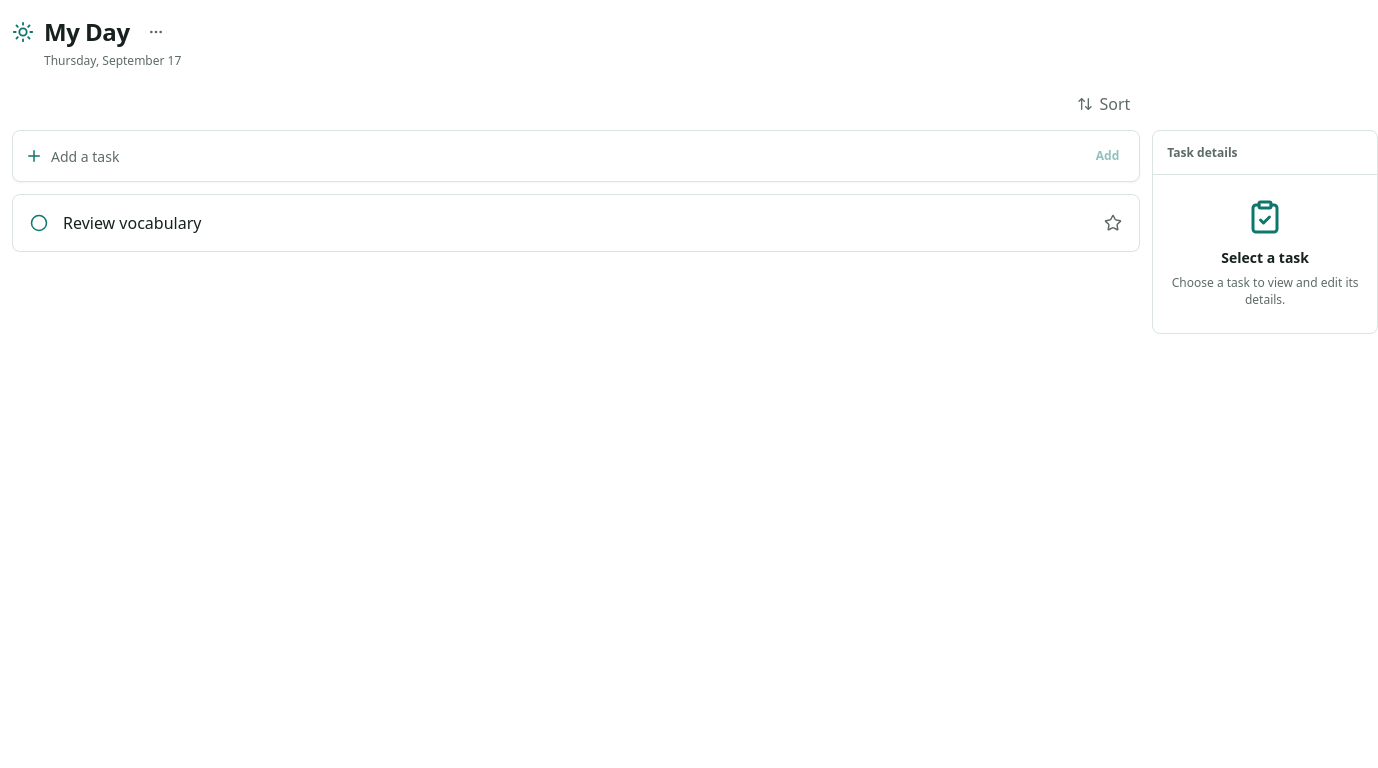
Test: TodoPage My Day workspace › shares completion and importance between the row and details panel
This screenshot has width=1378, height=768.
Click the button "Review vocabulary": (132, 223) [63,201,1089,245]
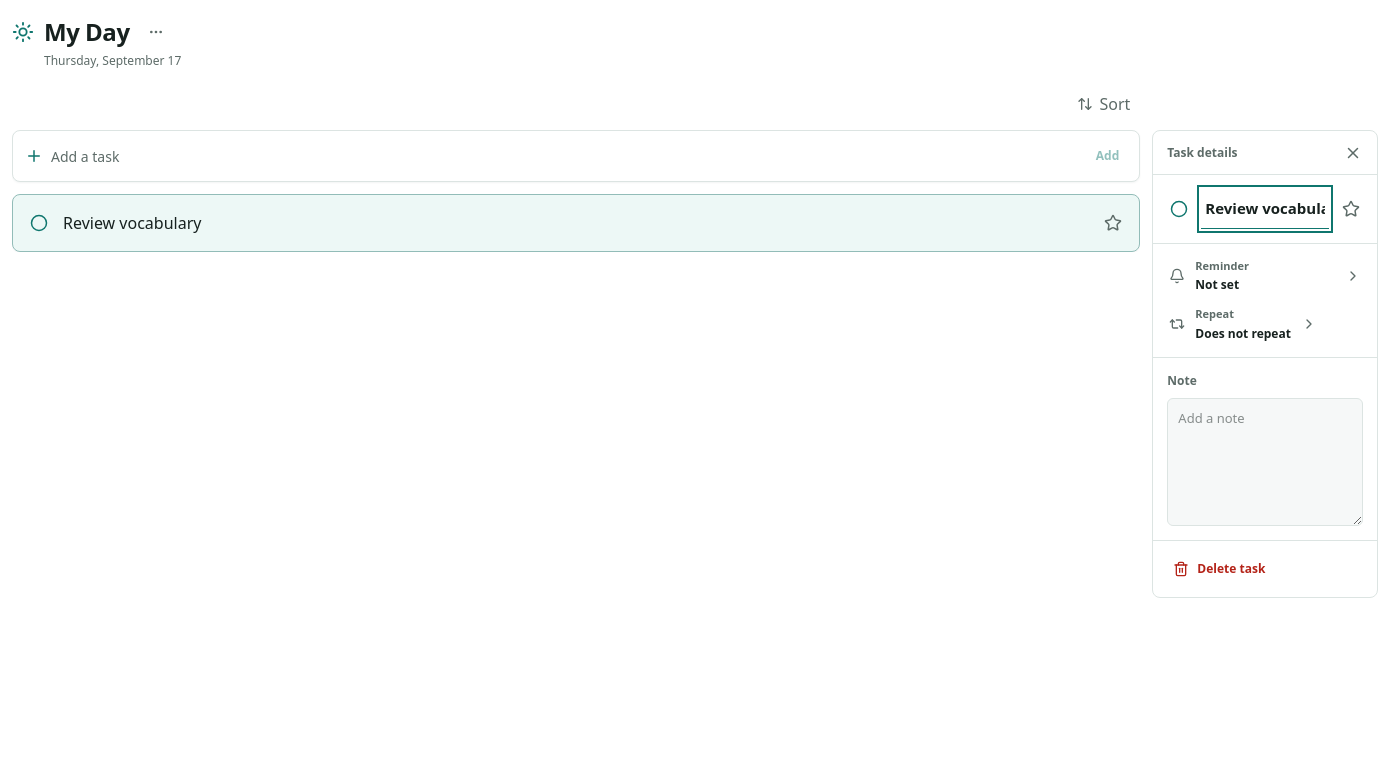
Click the button named "Mark as important": (1351, 209) [1335,193,1367,225]
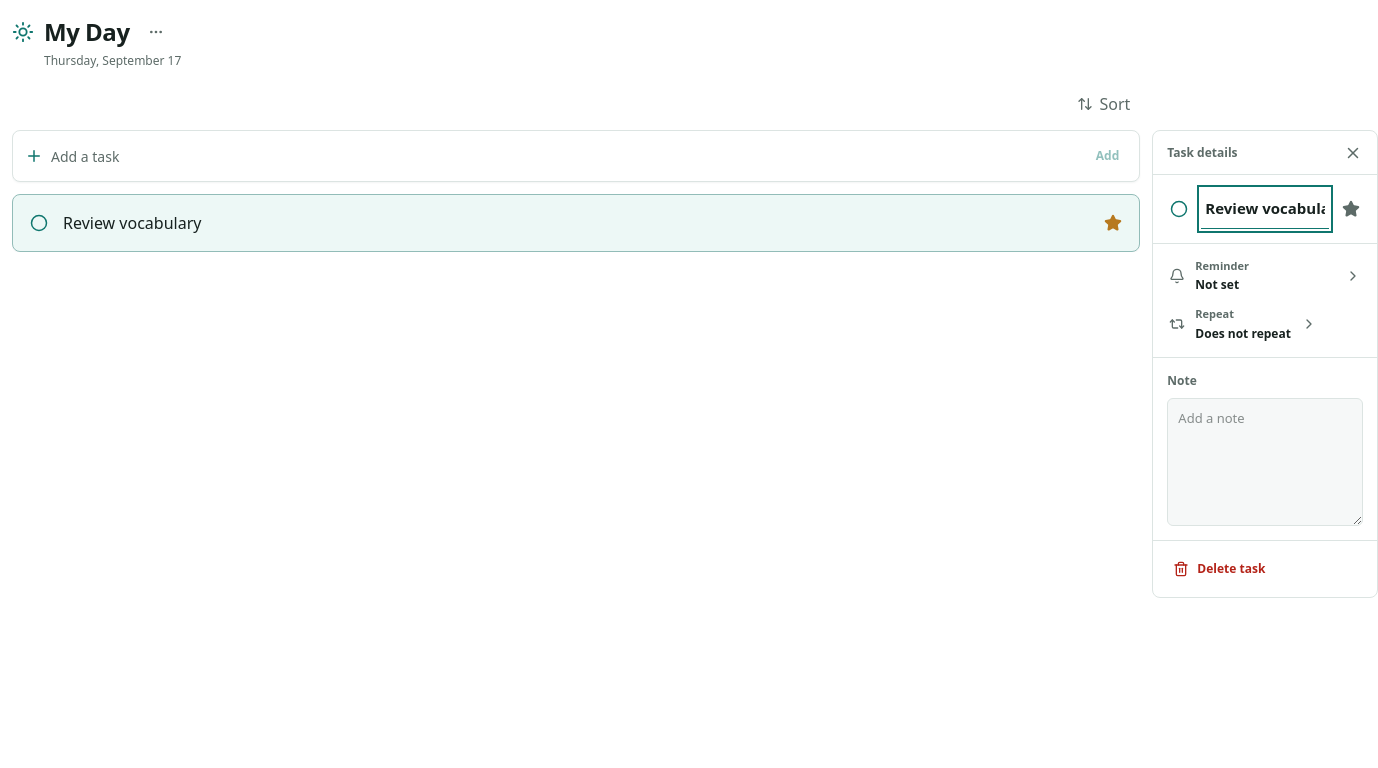
Expected: the button named "Remove importance from Review vocabulary" is pressed, [1097,207,1129,239]
Click the button named "Mark Review vocabulary as completed" below "Task details": (1179, 209) [1163,193,1195,225]
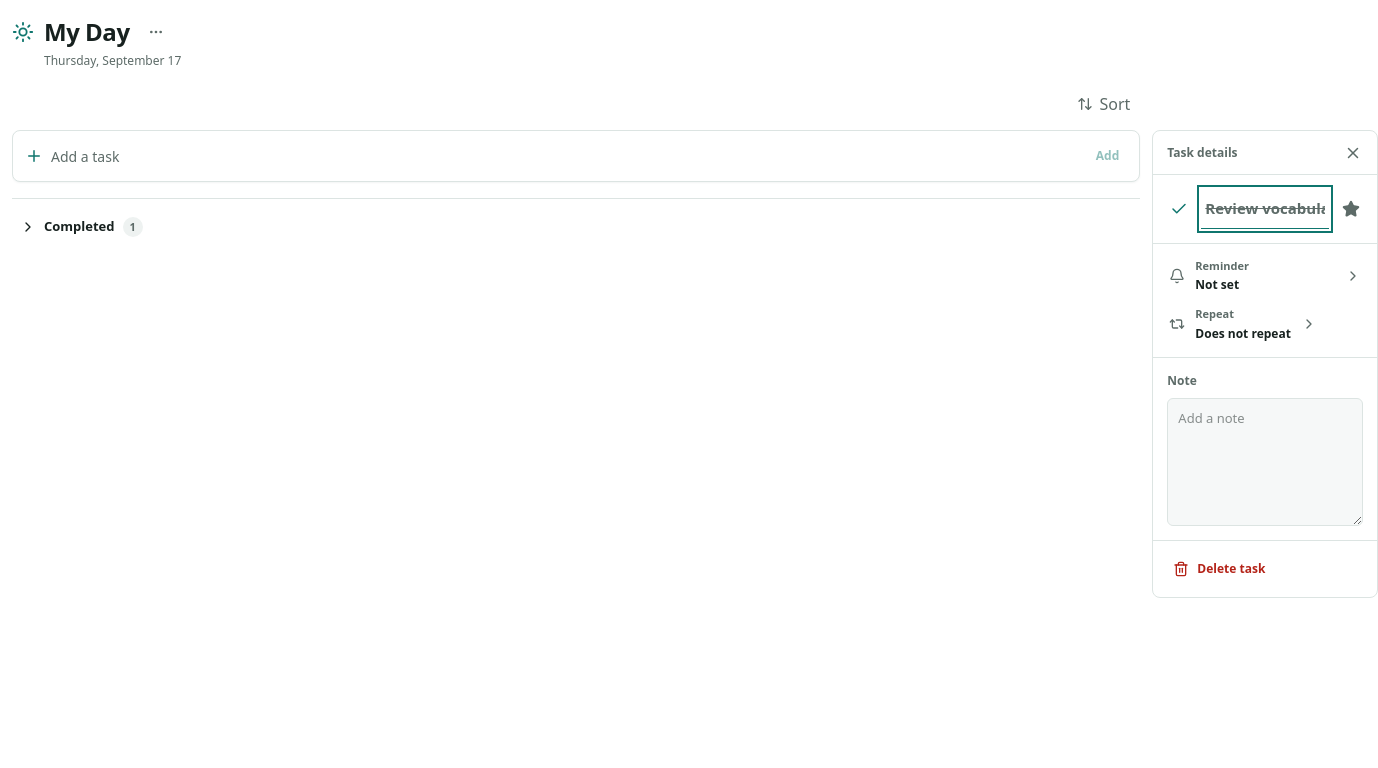
Expected: the button "Completed 1" is shown, [12,207,150,247]
